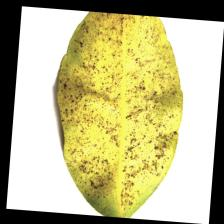canker: (77, 41, 164, 160)
